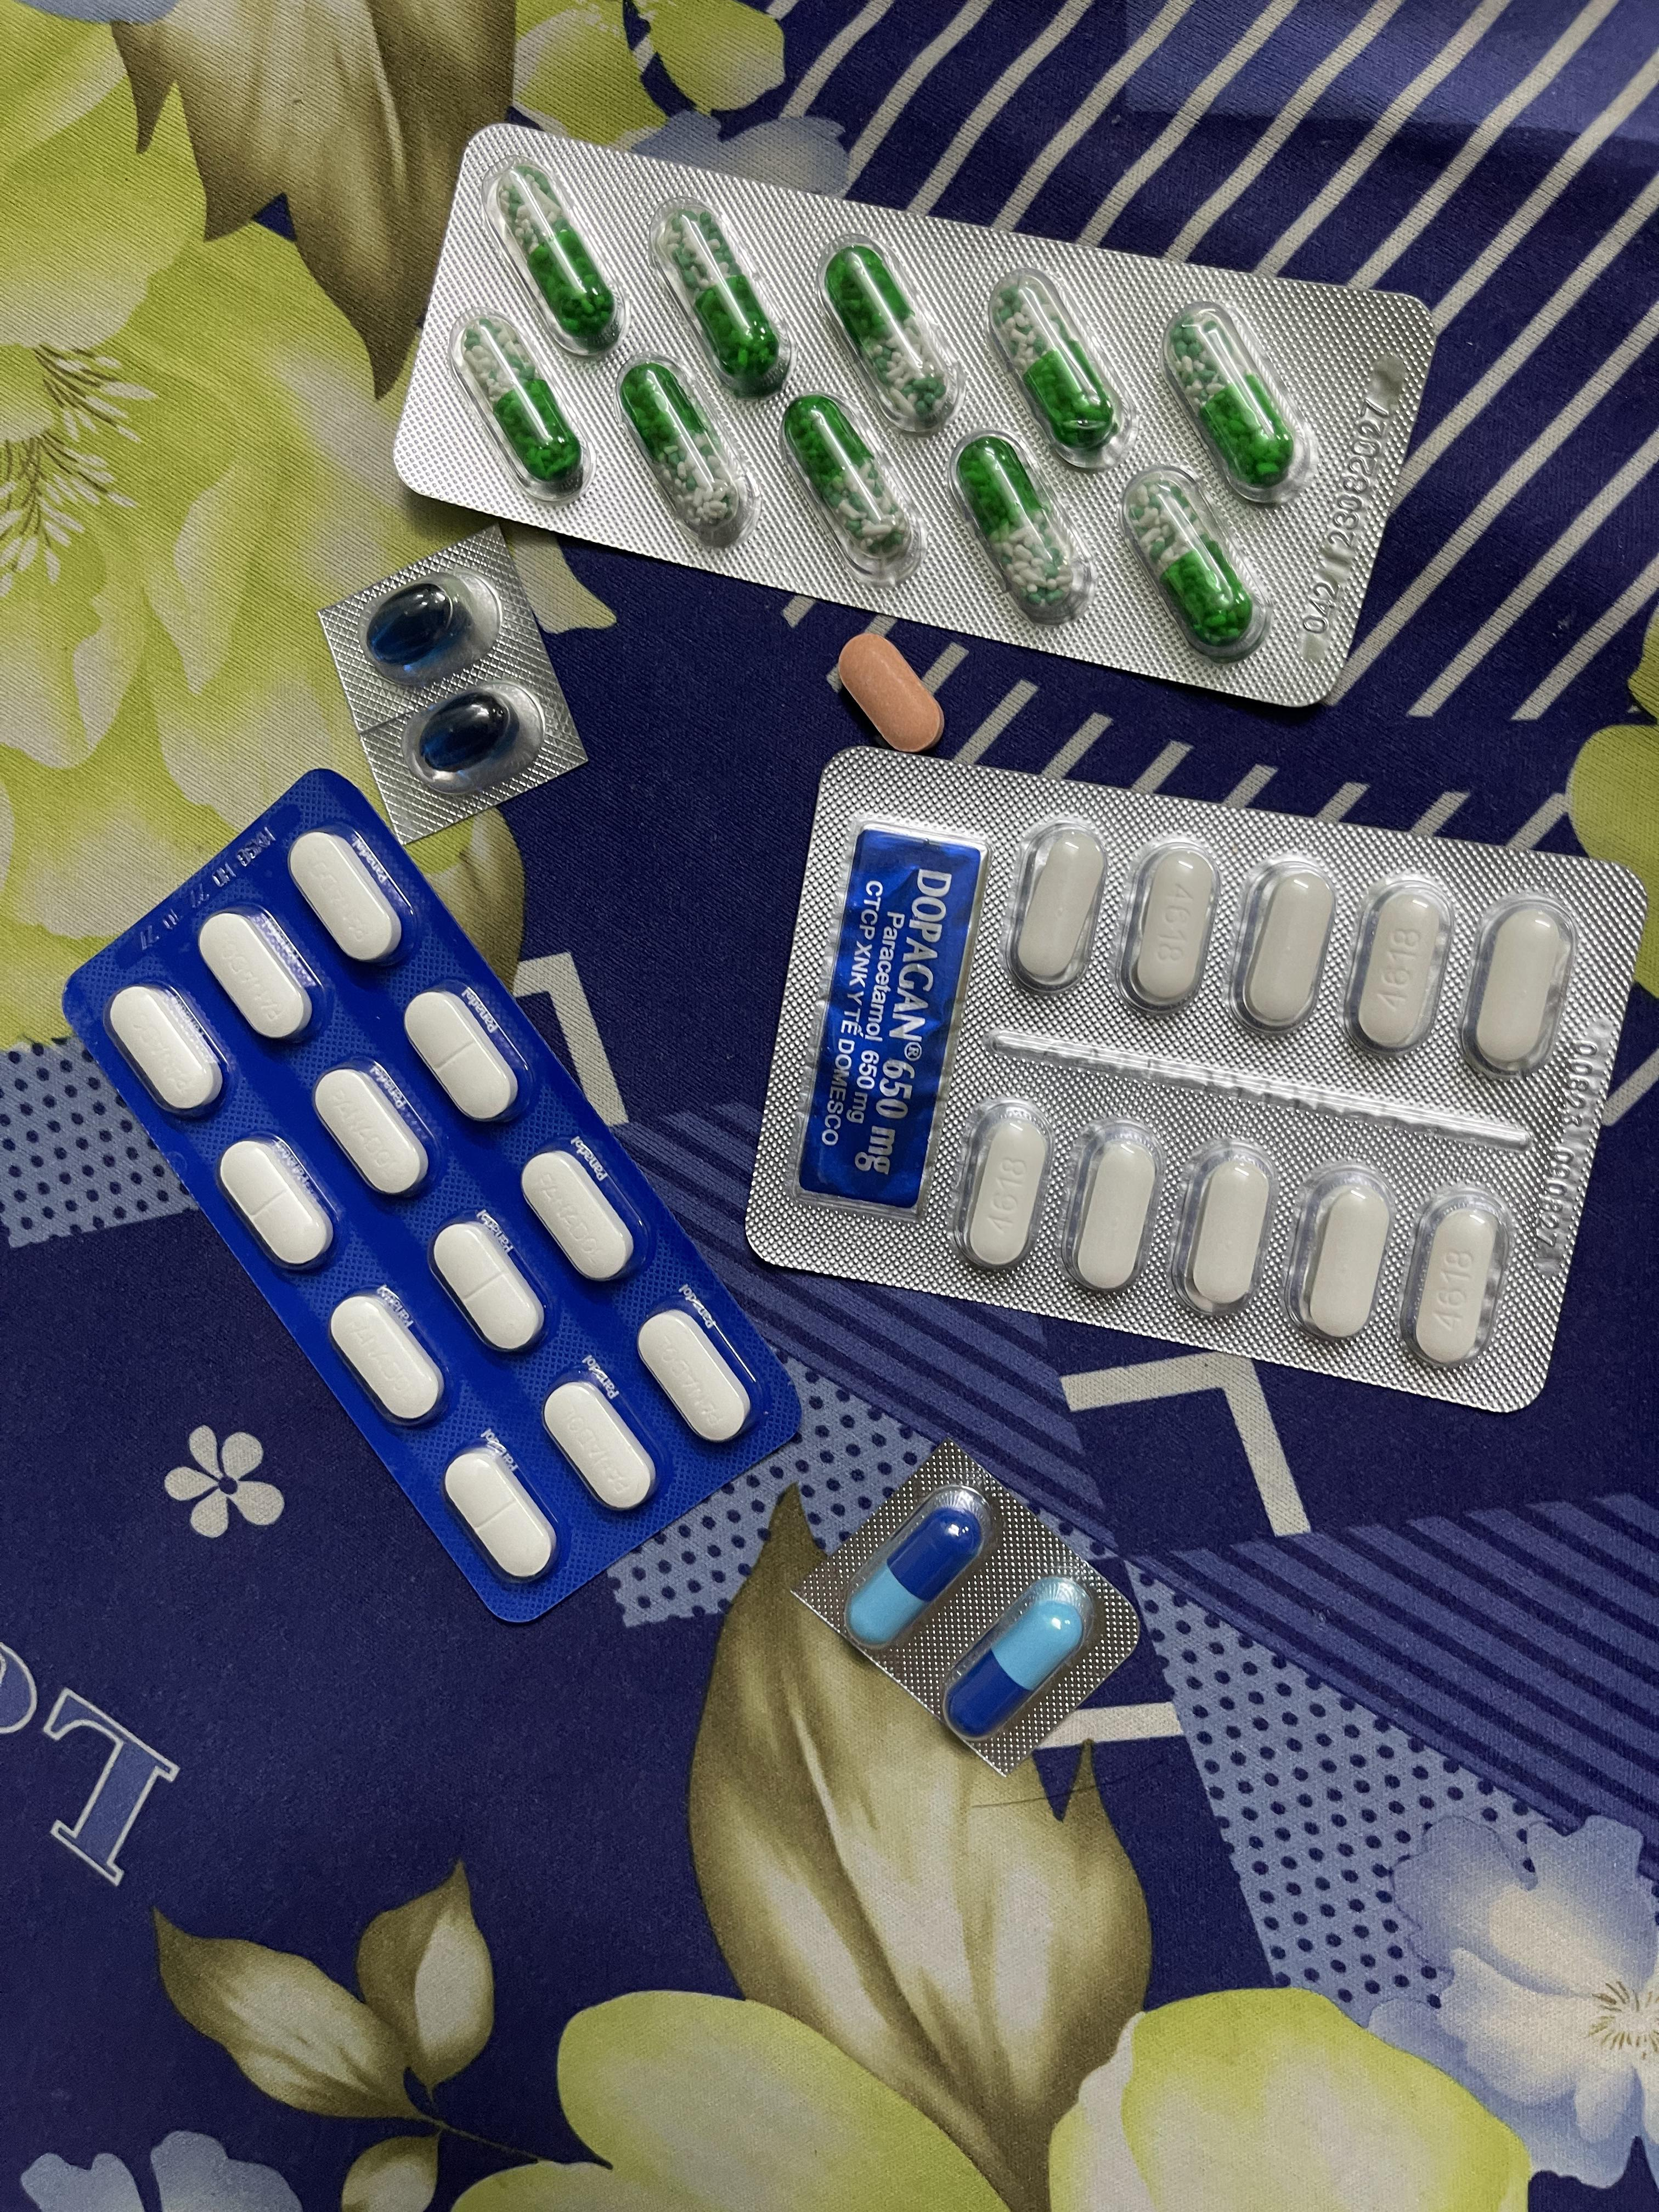Lincomyxin_500mg: (366, 583, 460, 667), (416, 693, 514, 773)
Loratadine_10mg: (838, 632, 946, 752)
Paracetamol_350mg: (636, 1305, 756, 1444), (314, 1064, 434, 1202), (288, 831, 408, 965), (406, 988, 525, 1123), (521, 1148, 638, 1284), (329, 1291, 446, 1425), (430, 1221, 547, 1355), (542, 1374, 659, 1508), (220, 1137, 335, 1273), (199, 909, 315, 1042), (444, 1442, 558, 1578), (106, 984, 223, 1115)
Paracetamol_500mg: (1459, 894, 1577, 1078), (1342, 871, 1459, 1054), (1399, 1184, 1514, 1369), (1229, 853, 1342, 1031), (1114, 838, 1222, 1012), (1004, 817, 1108, 993), (1058, 1113, 1161, 1291), (955, 1101, 1053, 1273), (1302, 1177, 1391, 1338), (1187, 1151, 1270, 1312)
Paracetamol_650mg: (958, 437, 1084, 617), (1122, 470, 1251, 643), (497, 165, 619, 345), (830, 246, 950, 423), (993, 275, 1115, 448), (789, 399, 910, 568), (622, 359, 739, 531), (1175, 320, 1295, 486), (462, 320, 580, 482), (664, 209, 772, 381)
pill: (939, 1571, 1094, 1743), (843, 1489, 997, 1648)
